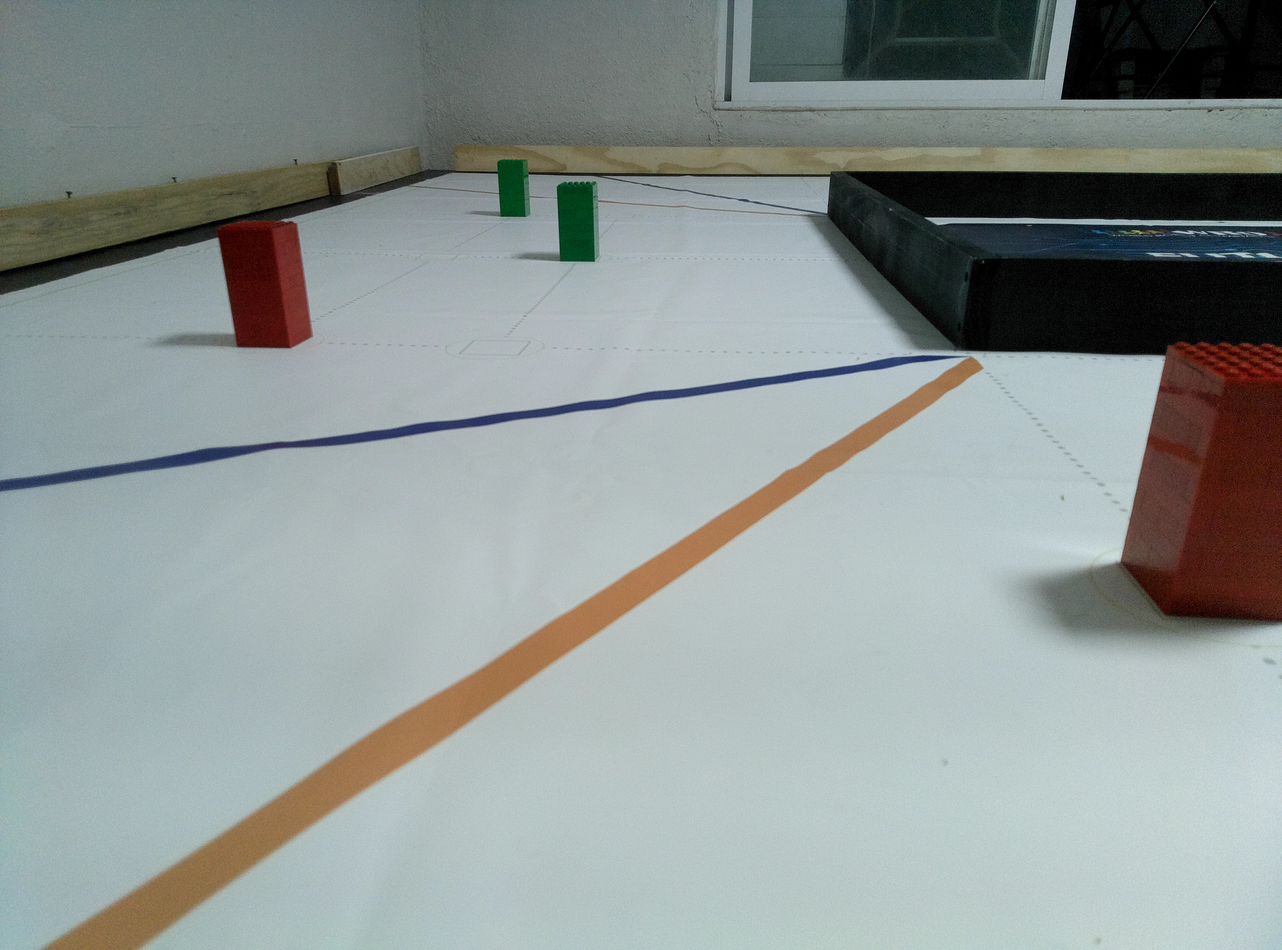greenbox: (557, 181, 599, 262), (497, 158, 531, 217)
redbox: (1119, 335, 1280, 623), (216, 221, 314, 349)
